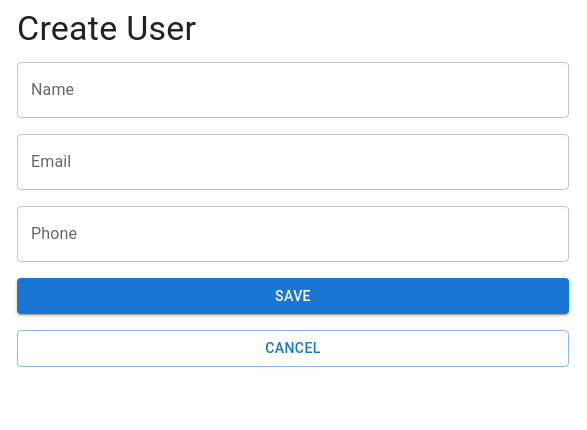
UserForm › shows validation errors
This screenshot has width=587, height=430.
Click the button "Save" at {"x": 293, "y": 296}, box [17,278,569,314]
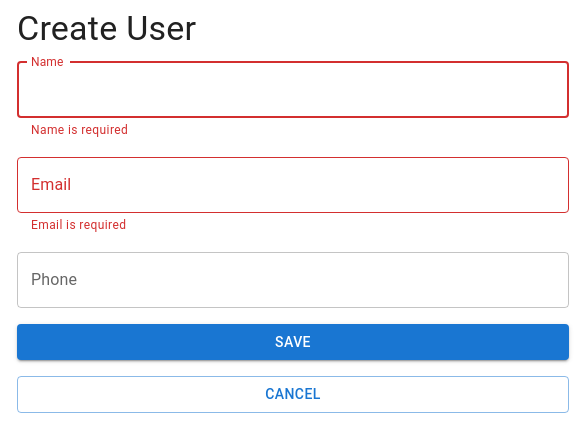
expect the text "Name is required" is shown: met, box [31,123,128,137]
